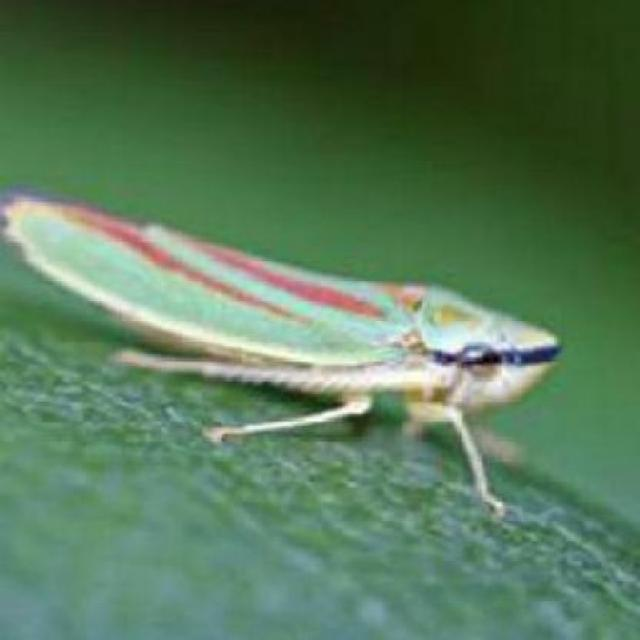green-leafhopper: (0, 200, 529, 446)
